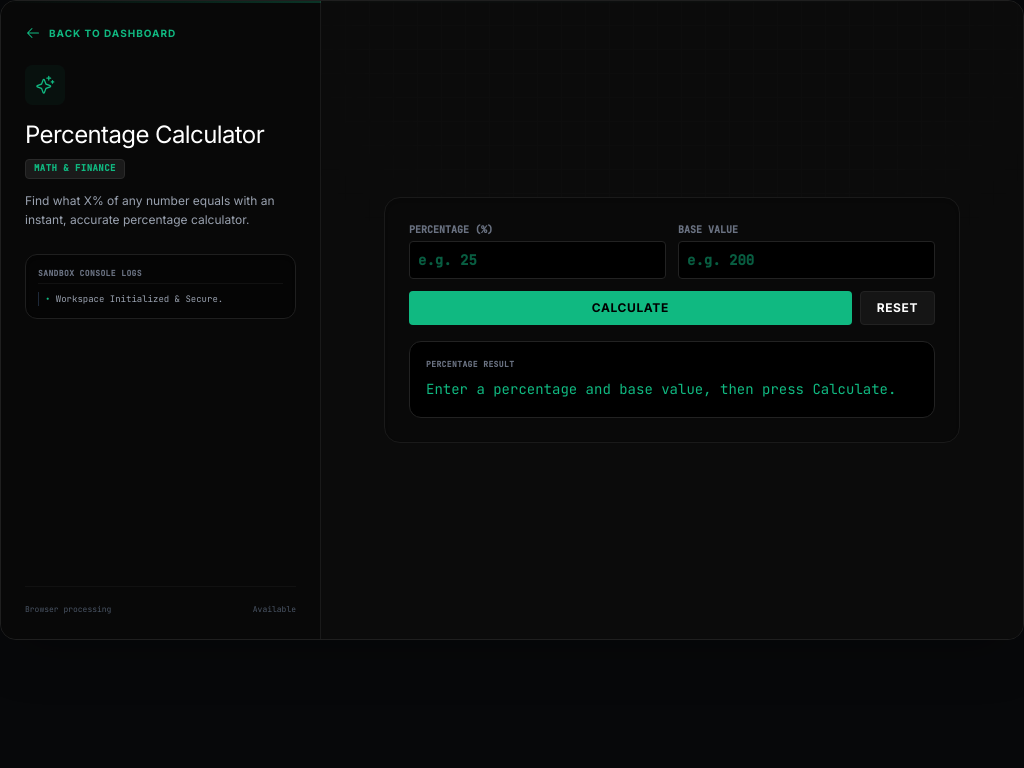
Test case: P1-B3 calculator workspaces (GenericUtilityWorkspace) › percent-calc supports zero and decimal percentages
The width and height of the screenshot is (1024, 768).
In the number field labelled "Percentage (%)": {"x": 538, "y": 260} [409,241,666,279], type "0"
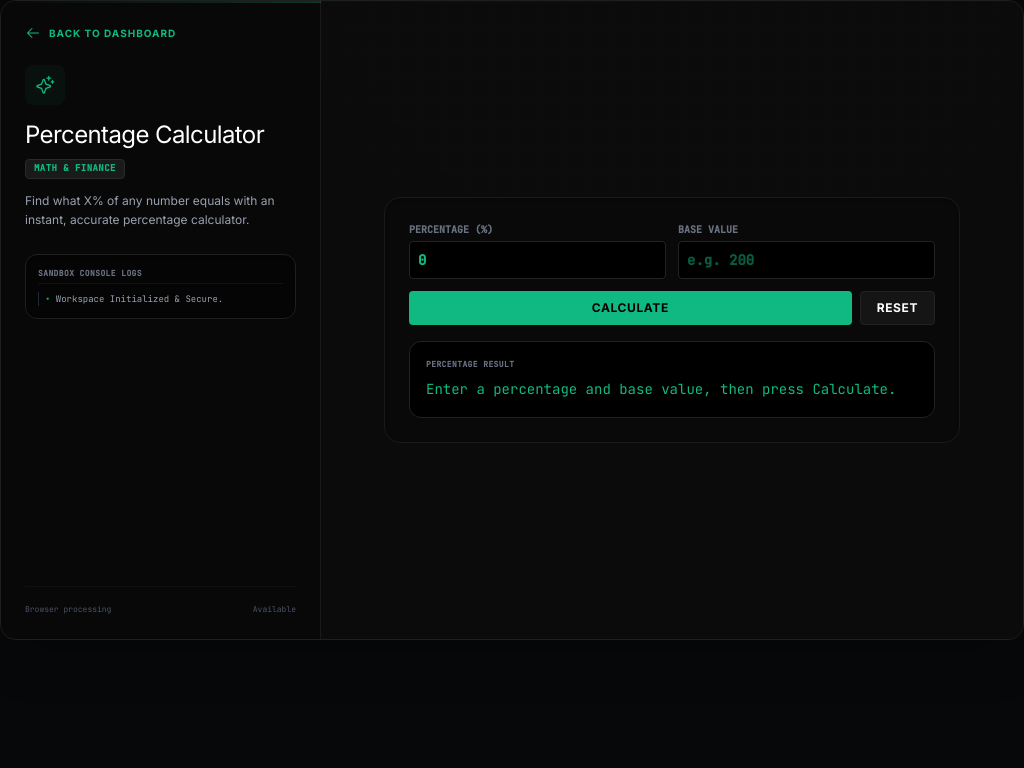
In the number field labelled "Base value": {"x": 806, "y": 260} [678,241,935,279], type "100"
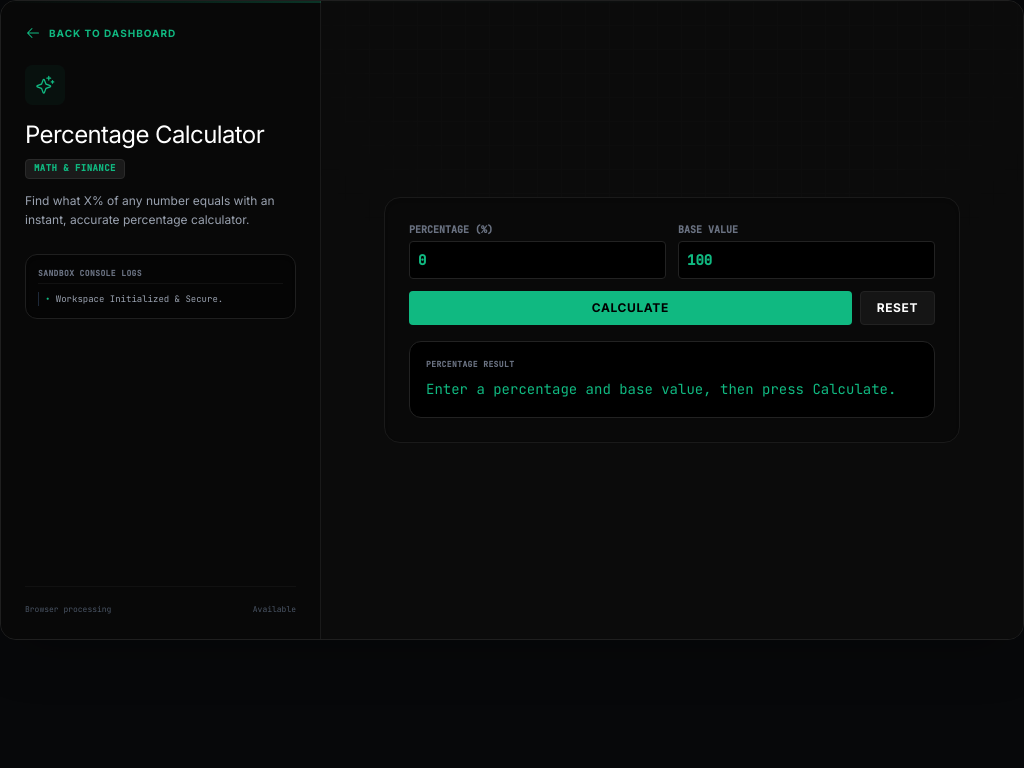
Click the button "Calculate": {"x": 630, "y": 308} [409,291,852,325]
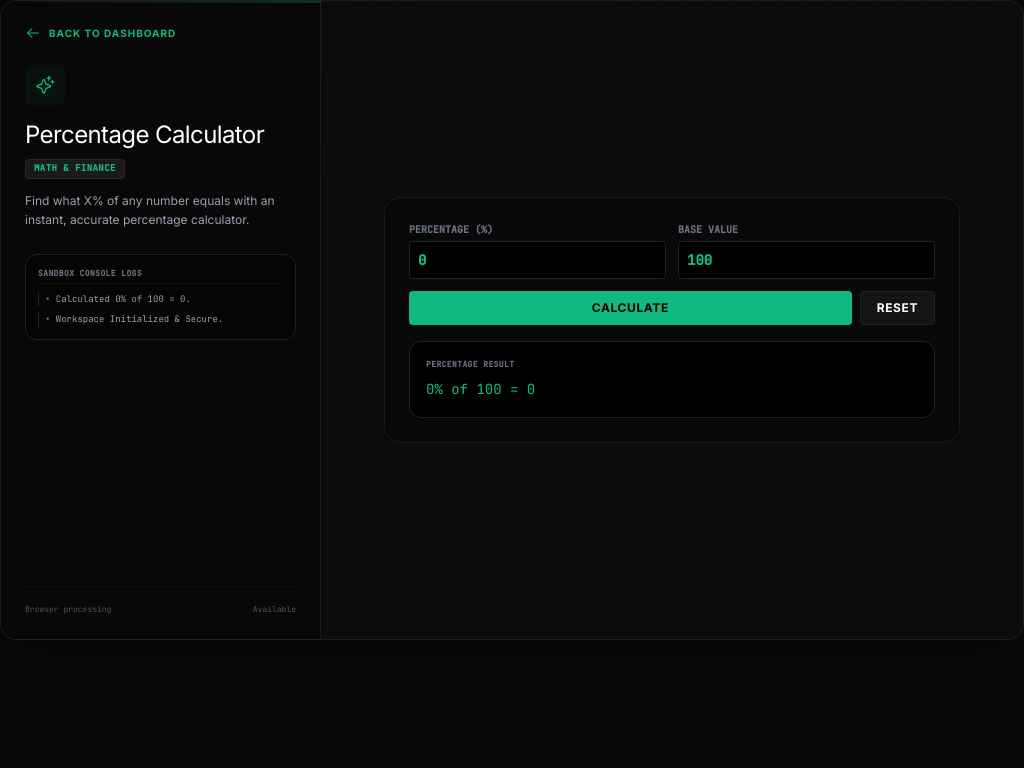
Expected: the text "0% of 100 = 0" is shown, [426,380,535,398]
Replace the text in the number field labelled "Percentage (%)" with "12.5": {"x": 538, "y": 260} [409,241,666,279]
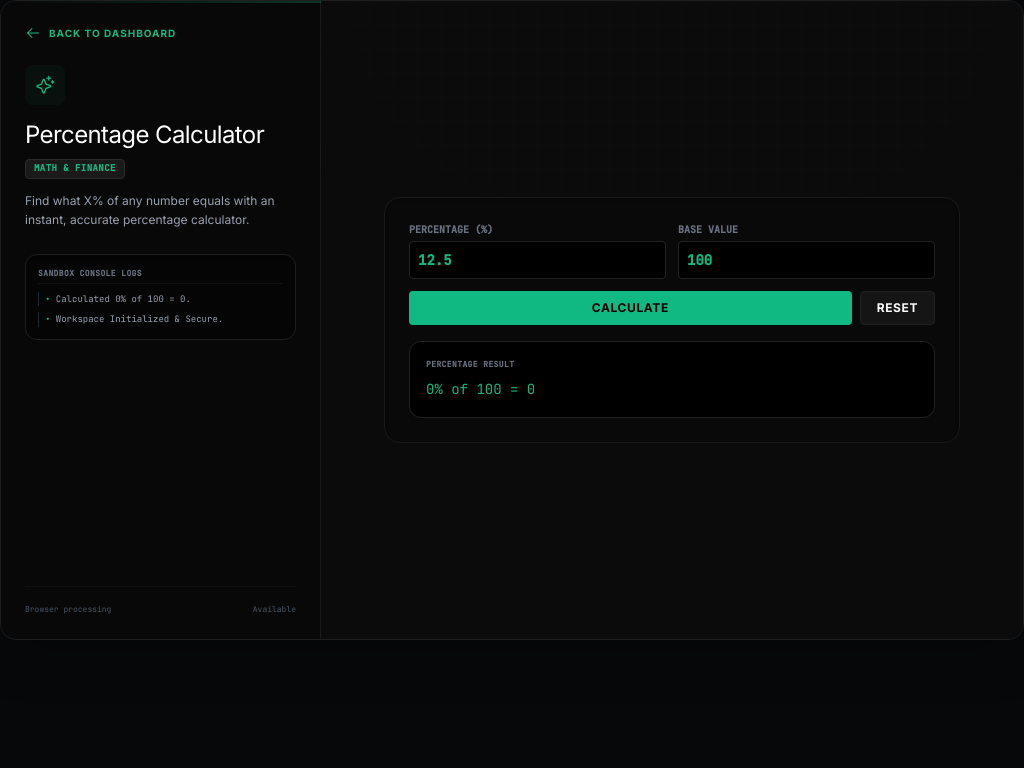
Replace the text in the number field labelled "Base value" with "80": {"x": 806, "y": 260} [678,241,935,279]
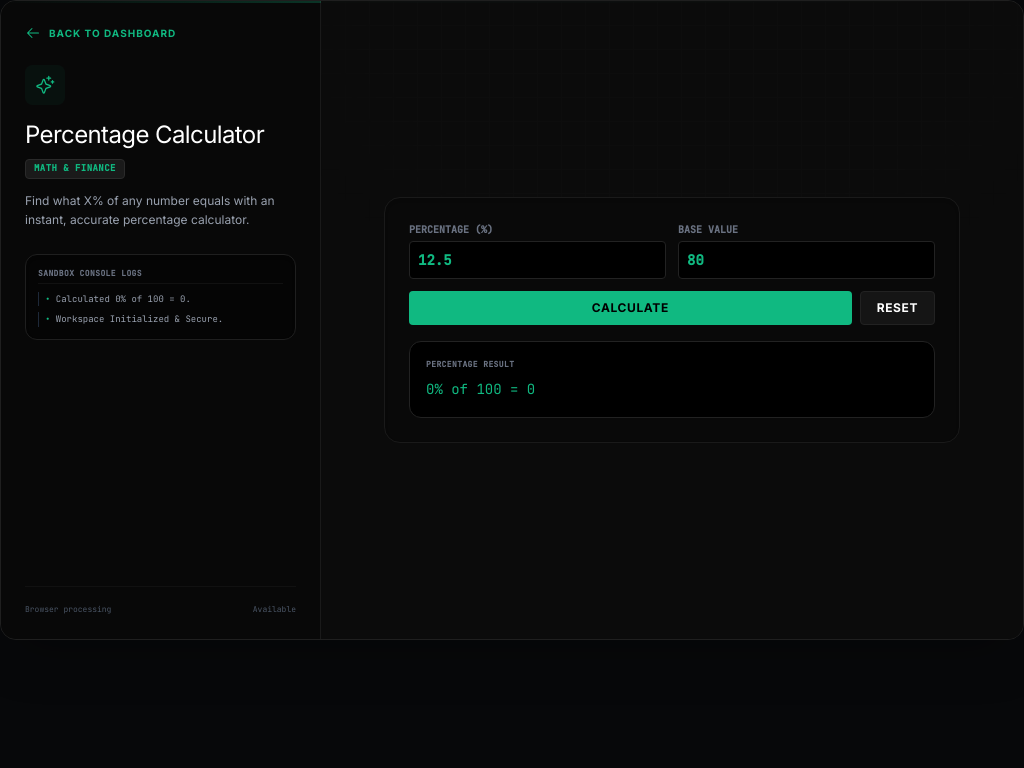
Click the button "Calculate": {"x": 630, "y": 308} [409,291,852,325]
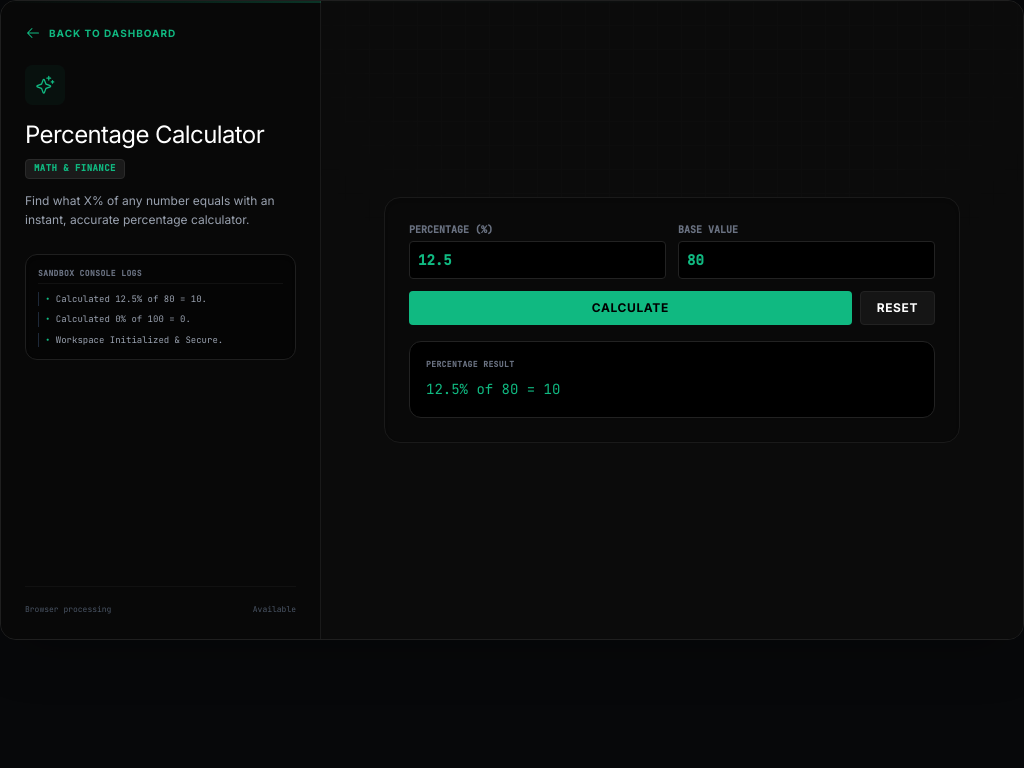
Expected: the text "12.5% of 80 = 10" is shown, [426,380,560,398]
